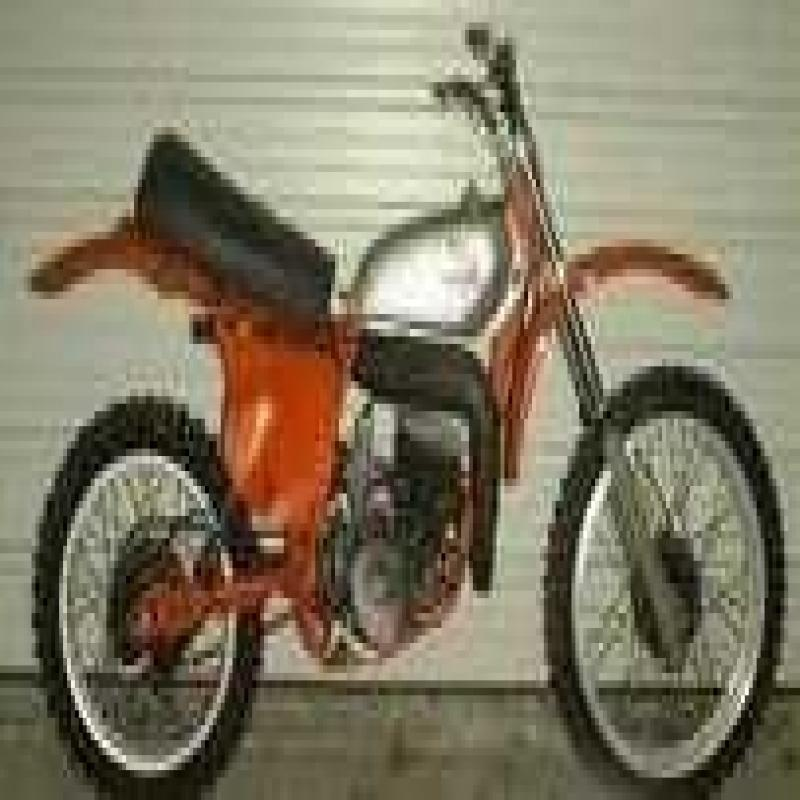bike: (32, 20, 779, 800)
